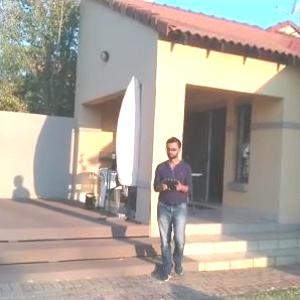follow: (150, 134, 194, 285)
